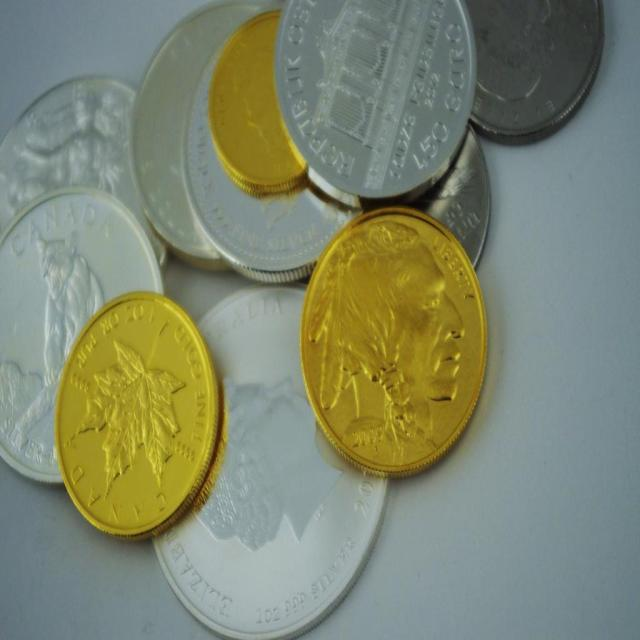Coin: (0, 0, 605, 639), (52, 292, 229, 543)
